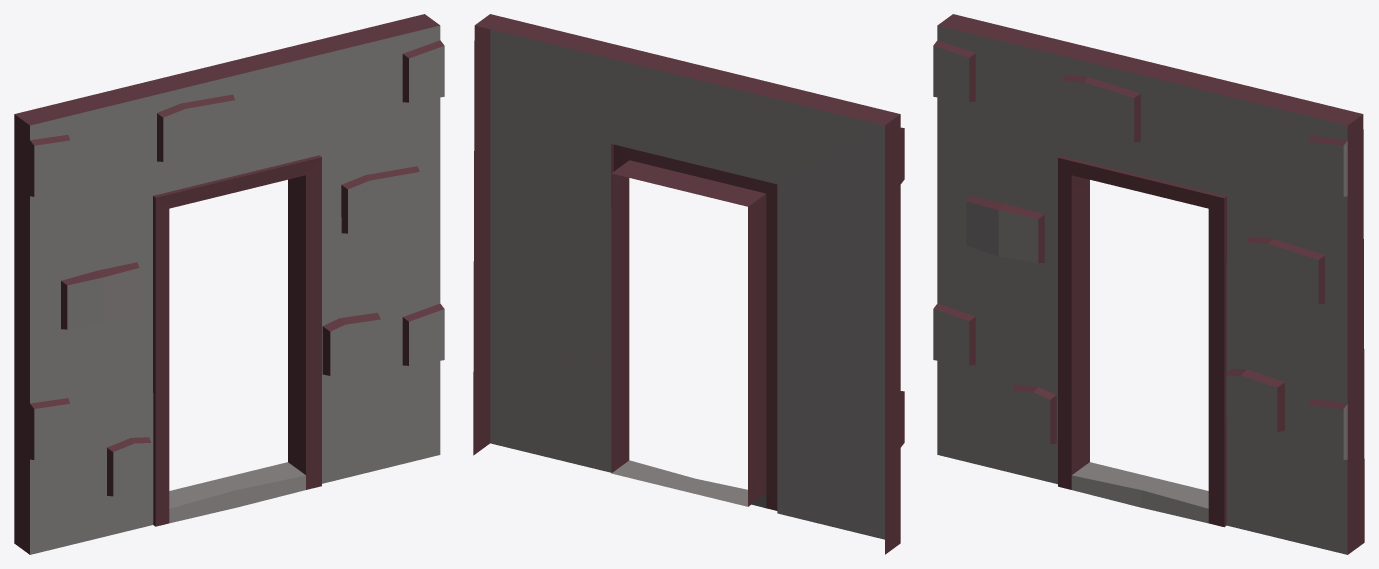
Rendered from wall-stone-door-3x3m-c.fbx.
The picture shows the model from 3 angles, left to right: view 1: azimuth 30°, elevation 25°; view 2: azimuth 150°, elevation 25°; view 3: azimuth 330°, elevation 25°; orthographic projection.
Parts seen in each view (by area): view 1: wall-stone-door-3x3m-c; view 2: wall-stone-door-3x3m-c; view 3: wall-stone-door-3x3m-c.
Part boxes in pixels (x1,y1,x2,y2): wall-stone-door-3x3m-c: [14, 14, 444, 554]; wall-stone-door-3x3m-c: [473, 14, 904, 554]; wall-stone-door-3x3m-c: [933, 14, 1364, 554].
Bounding box in the file's own units: 3 × 3 × 0.2935.
